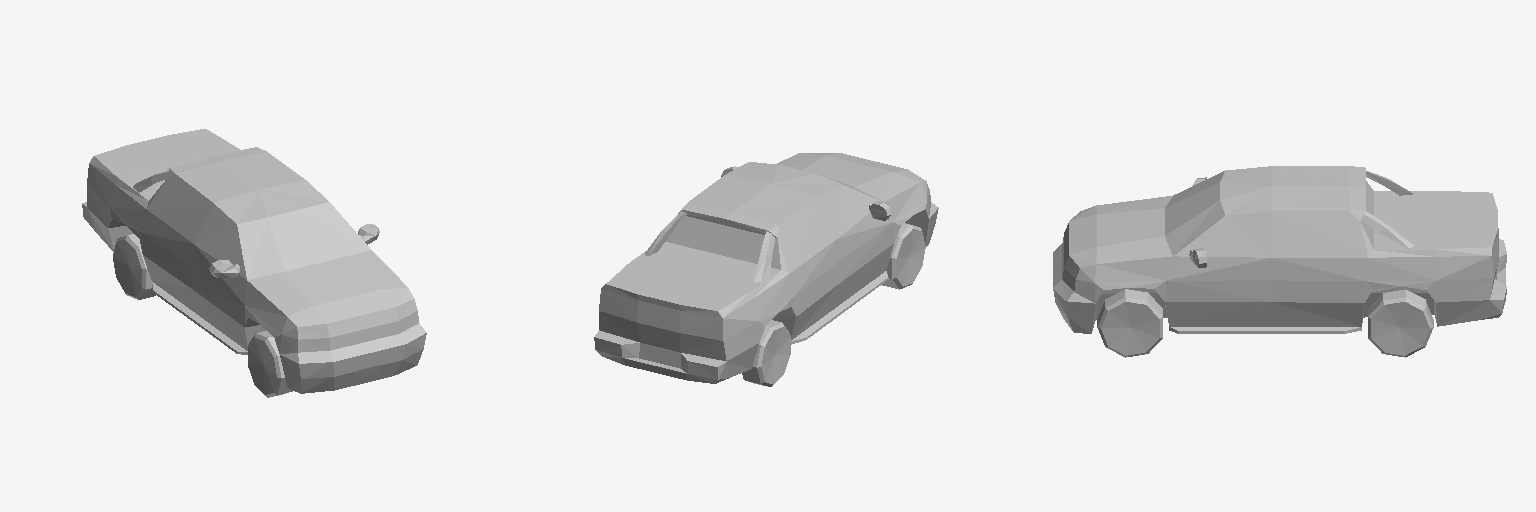
File: chevy_avalanche.obj
The picture shows the model from 3 angles: view 1: azimuth 30°, elevation 25°; view 2: azimuth 150°, elevation 25°; view 3: azimuth 270°, elevation 25°; orthographic projection.
Parts seen in each view (by area): view 1: Box01; view 2: Box01; view 3: Box01.
Boxes of the visible parts, box(x1,y1,x2,y2) form: Box01: box(82, 129, 426, 397); Box01: box(594, 153, 938, 386); Box01: box(1053, 166, 1506, 357).
Bounding box in the file's own units: 238 × 190 × 562.